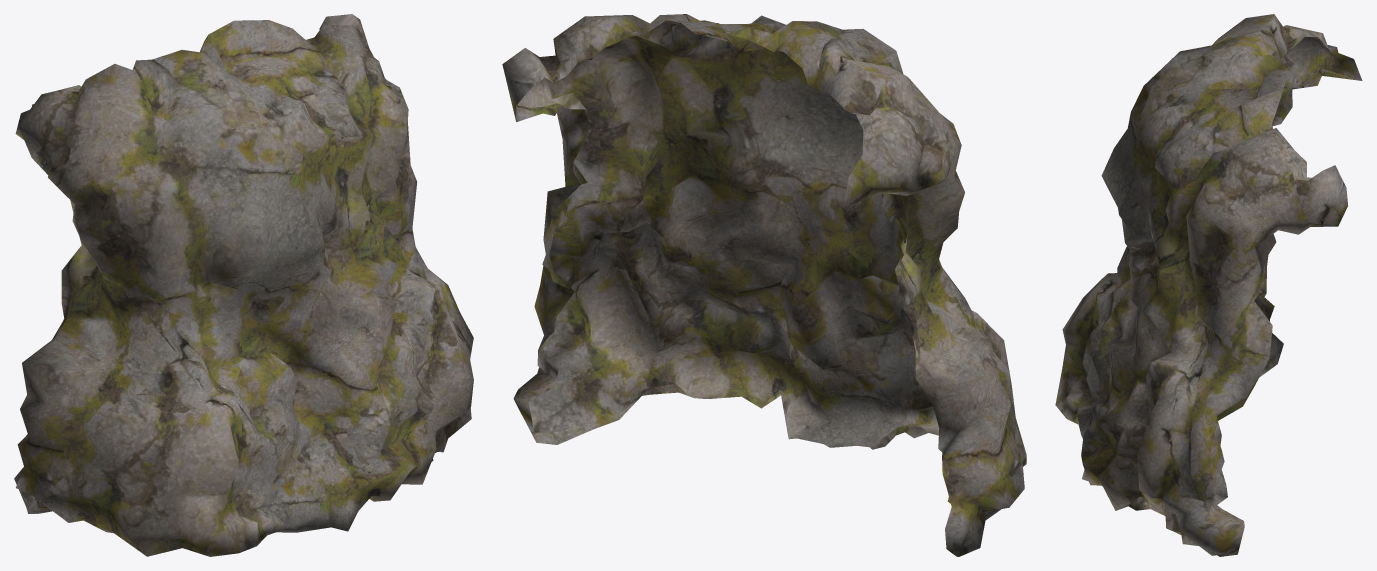
3 renders of one model, left to right at view 1: azimuth 30°, elevation 25°; view 2: azimuth 150°, elevation 25°; view 3: azimuth 270°, elevation 25°, orthographic. The views are drawn at different scales.
Parts seen in each view (by area): view 1: Cube.079; view 2: Cube.079; view 3: Cube.079.
Boxes of the visible parts, x1,y1,x2,y2 form: Cube.079: (14,14,473,556); Cube.079: (502,14,1026,556); Cube.079: (1055,14,1362,556).
Bounding box in the file's own units: 15.6 × 14.81 × 9.99.
1 material, 1 textured.
